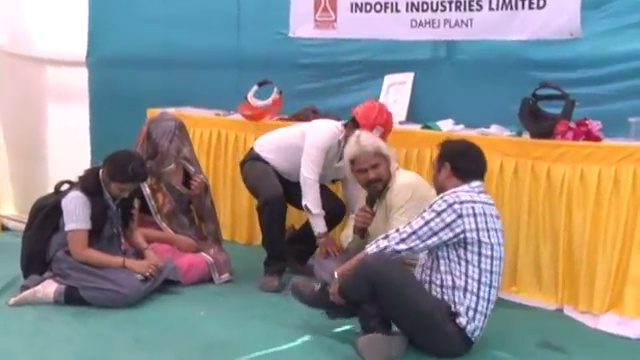helmet: (352, 100, 394, 137)
helmet_off: (339, 129, 399, 194), (428, 139, 489, 200), (95, 151, 152, 206), (140, 117, 192, 177)
helmet_on: (337, 100, 393, 146)
person: (290, 139, 504, 360), (240, 101, 392, 289), (11, 152, 174, 308), (310, 138, 437, 281), (129, 108, 228, 287)
